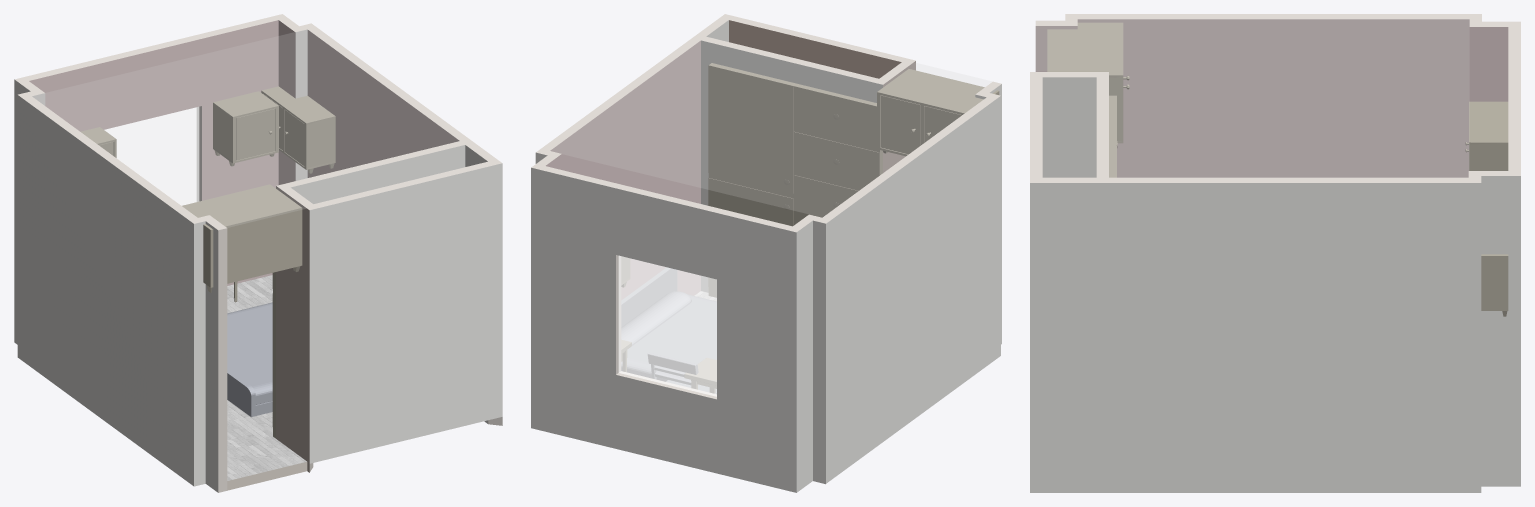
Rendered from gujju.glb.
The picture shows the model from 3 angles, left to right: view 1: azimuth 30°, elevation 25°; view 2: azimuth 150°, elevation 25°; view 3: azimuth 270°, elevation 25°; orthographic projection. The views are drawn at different scales.
Visible parts, largest first — view 1: wall_0 (×2), wall_1 (×2), ceiling_Bedroom_0, wall_7 (×2), window_0 (×2), wall_9 (×2), storage3, wall_8, wall_11 (×2), floor_Bedroom_0 (×2), wall_2 (×2), bed0 (+9 smaller); view 2: wall_7 (×3), wall_1 (×2), ceiling_Bedroom_0, window_0 (×2), storage2, wall_9 (×2), bed0, storage3, wall_2 (×2), wall_0 (×2), wall_6, wall_3 (+2 smaller); view 3: wall_9 (×2), ceiling_Bedroom_0, wall_1 (×2), wall_10, wall_4, wall_8, storage3, wall_6, storage4, wall_7, storage0, wall_0 (+3 smaller).
Part boxes in pixels (<box>): wall_0 (×2): <box>309,161,502,463</box>; wall_1 (×2): <box>17,94,197,486</box>; ceiling_Bedroom_0: <box>33,30,458,227</box>; wall_7 (×2): <box>15,14,282,285</box>; window_0 (×2): <box>105,107,198,205</box>; wall_9 (×2): <box>307,23,468,177</box>; storage3: <box>182,184,302,292</box>; wall_8: <box>276,186,309,472</box>; wall_11 (×2): <box>205,221,227,492</box>; floor_Bedroom_0 (×2): <box>227,290,307,490</box>; wall_2 (×2): <box>276,141,465,203</box>; bed0: <box>227,302,272,416</box>; wall_7 (×3): <box>531,166,796,492</box>; wall_1 (×2): <box>822,95,1000,483</box>; ceiling_Bedroom_0: <box>551,41,991,216</box>; window_0 (×2): <box>619,256,716,396</box>; storage2: <box>708,63,882,297</box>; wall_9 (×2): <box>536,38,700,299</box>; bed0: <box>621,267,716,381</box>; storage3: <box>877,69,999,156</box>; wall_2 (×2): <box>701,36,882,292</box>; wall_0 (×2): <box>725,14,915,78</box>; wall_6: <box>796,220,812,492</box>; wall_3: <box>813,220,825,484</box>; wall_9 (×2): <box>1109,177,1481,492</box>; ceiling_Bedroom_0: <box>1036,19,1468,176</box>; wall_1 (×2): <box>1066,14,1481,177</box>; wall_10: <box>1030,183,1108,492</box>; wall_4: <box>1481,176,1520,486</box>; wall_8: <box>1042,77,1096,177</box>; storage3: <box>1047,22,1129,143</box>; wall_6: <box>1469,27,1508,101</box>; storage4: <box>1465,101,1508,170</box>; wall_7: <box>1508,22,1520,175</box>; storage0: <box>1481,254,1508,316</box>; wall_0: <box>1030,72,1042,182</box>.
Size of the model in its own units: 3.22 by 2.76 by 3.95.
Materials: 42 (2 with a texture image).
